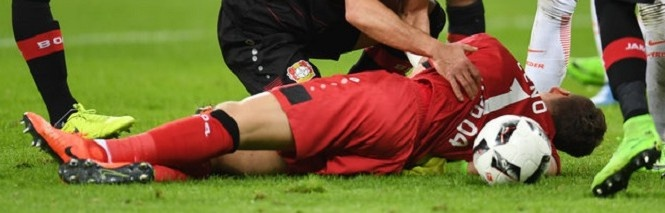falling: (1, 17, 599, 194)
